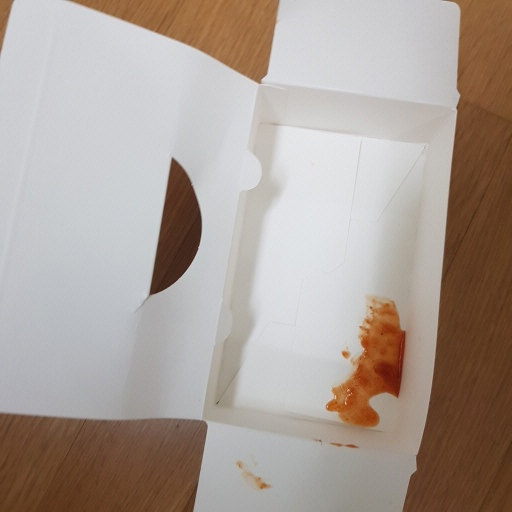Paper_0: (1, 1, 465, 512)
